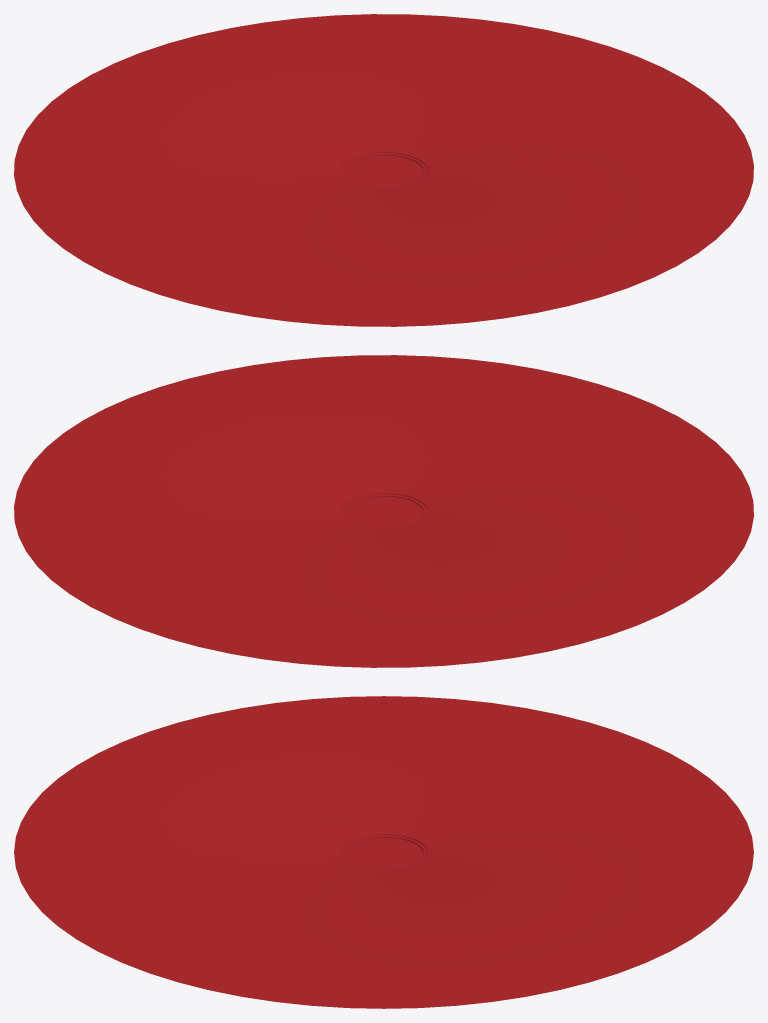
File: OuterPlatform.fbx
The picture shows the model from 3 angles, top to bottom: view 1: azimuth 30°, elevation 25°; view 2: azimuth 150°, elevation 25°; view 3: azimuth 270°, elevation 25°; orthographic projection.
Visible parts, largest first — view 1: OuterPlatform; view 2: OuterPlatform; view 3: OuterPlatform.
Part boxes in pixels (x1,y1,x2,y2): OuterPlatform: (14, 14, 753, 326); OuterPlatform: (14, 355, 753, 667); OuterPlatform: (14, 696, 753, 1008).
Bounding box in the file's own units: 6725 × 6725 × 14.59.
